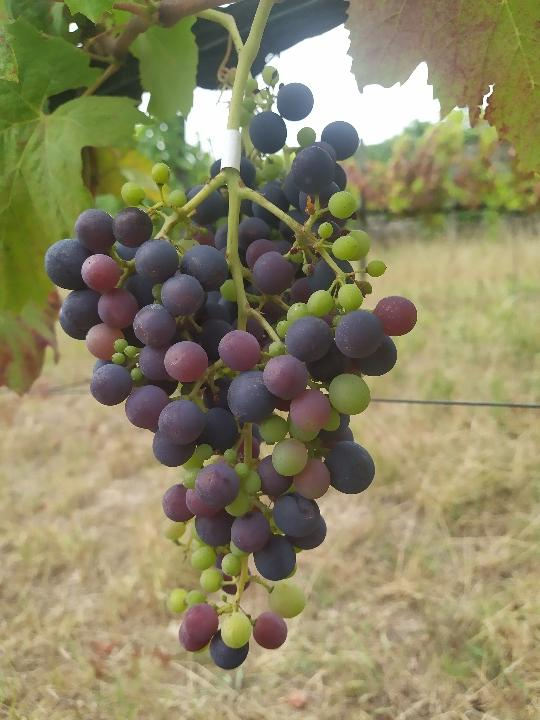grape: (42, 65, 418, 673)
